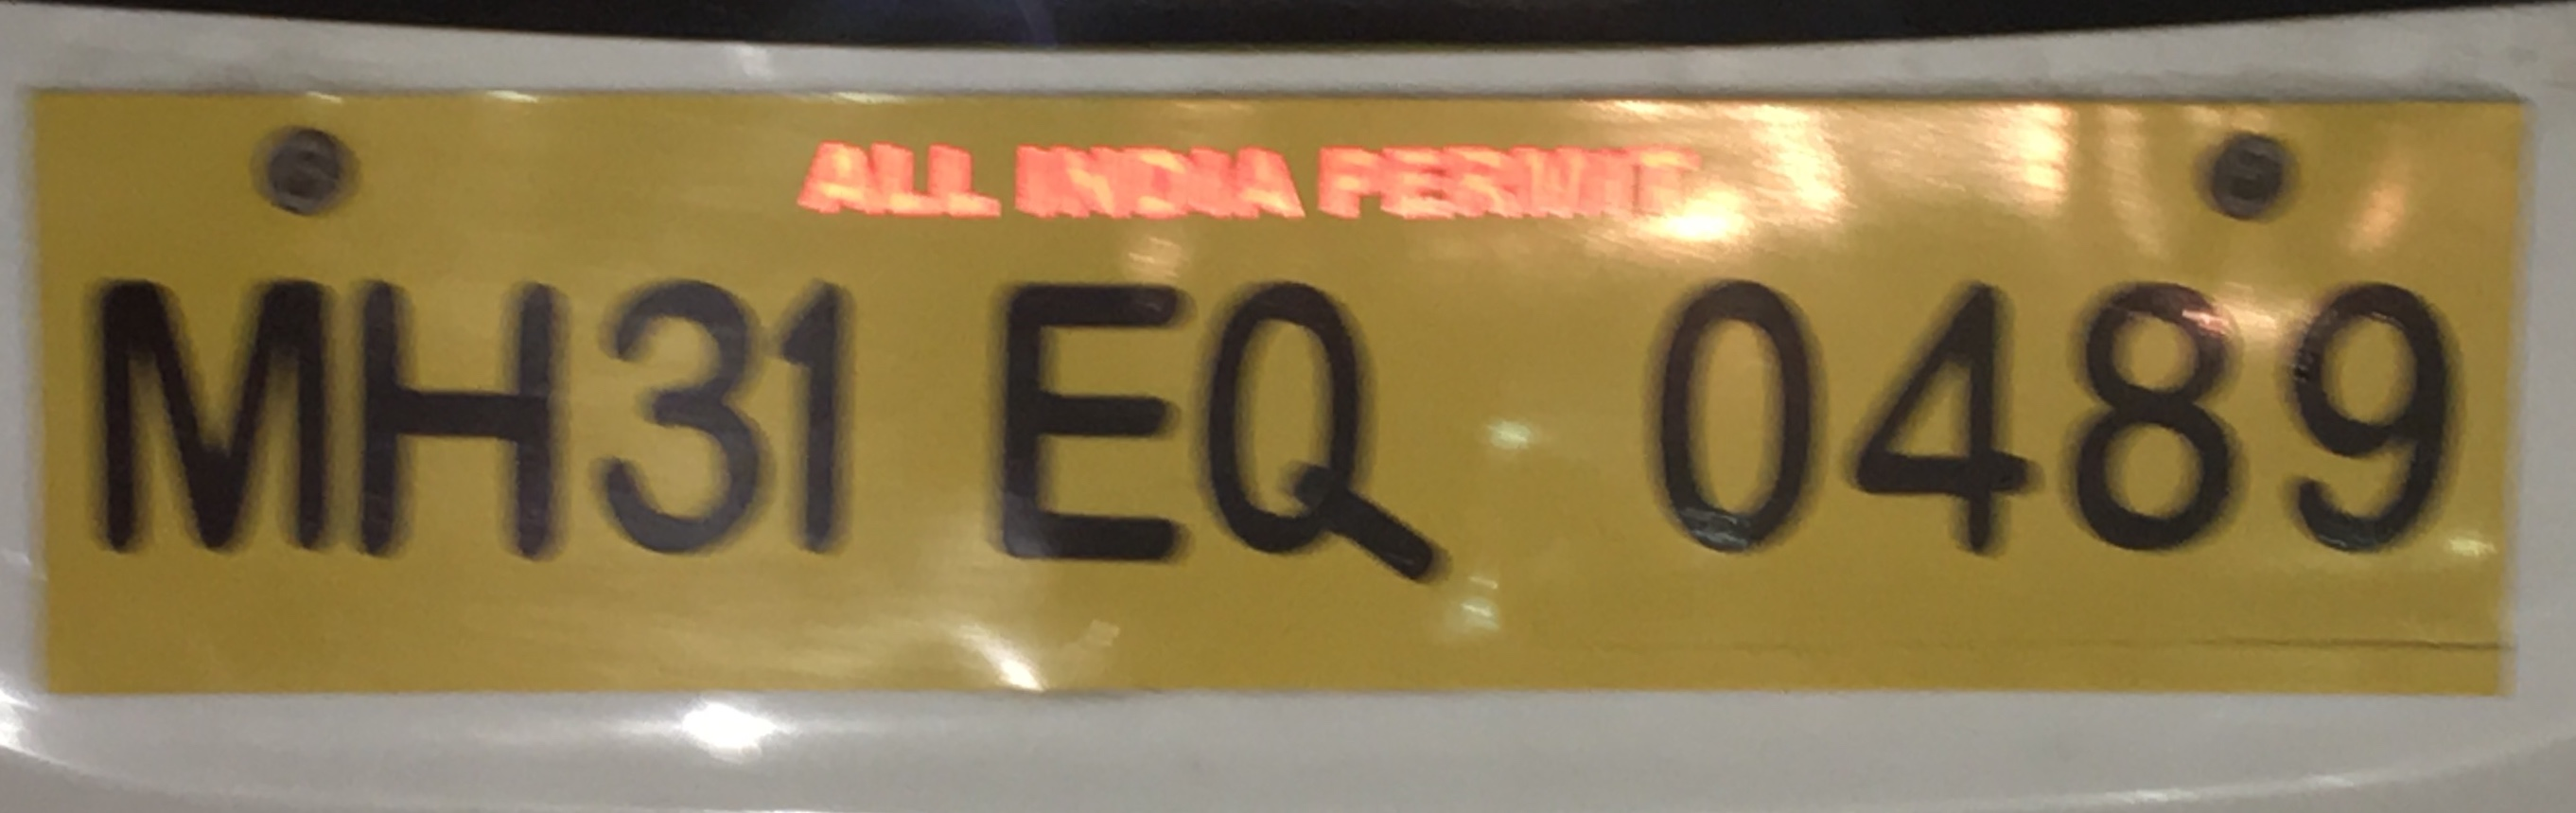numberplate: (32, 82, 2535, 704)
